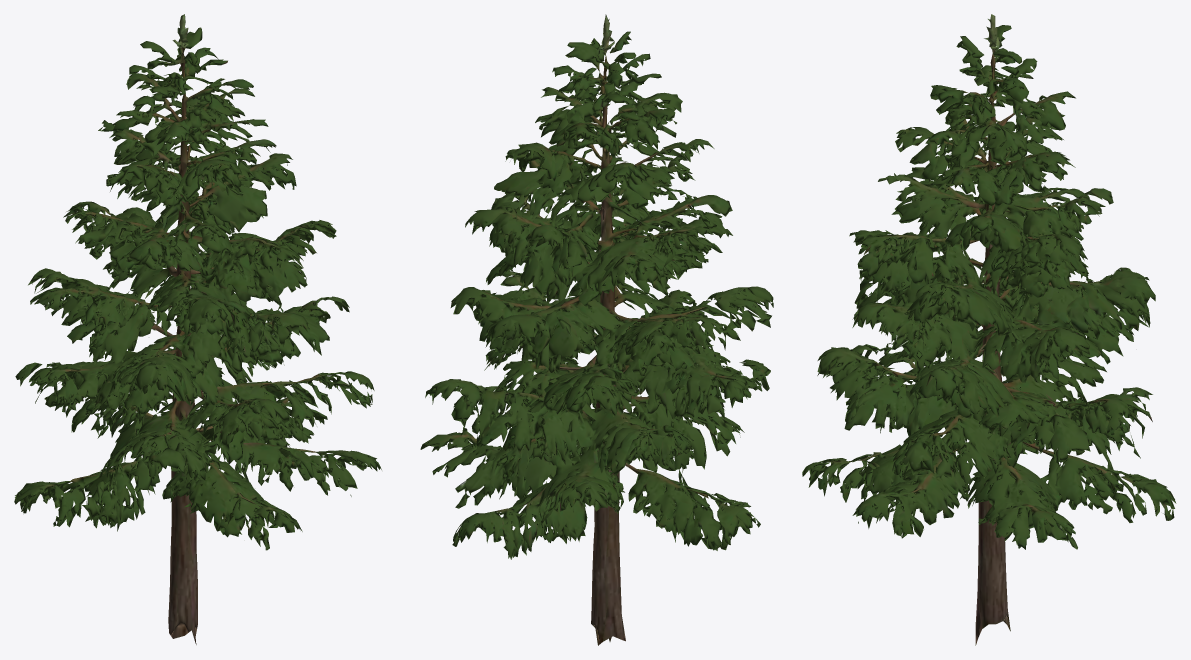
The model's file is cedar_b.0.glb.
3 views of the same model, side by side, from view 1: azimuth 30°, elevation 25°; view 2: azimuth 150°, elevation 25°; view 3: azimuth 270°, elevation 25° (orthographic).
Parts seen in each view (by area): view 1: geometry_0; view 2: geometry_0; view 3: geometry_0.
Part boxes in pixels (bbox=[...]): geometry_0: bbox=[14, 14, 381, 644]; geometry_0: bbox=[420, 14, 773, 645]; geometry_0: bbox=[802, 14, 1176, 645].
Size of the model in its own units: 0.5137 by 0.9785 by 0.5266.
1 material, 1 textured.
